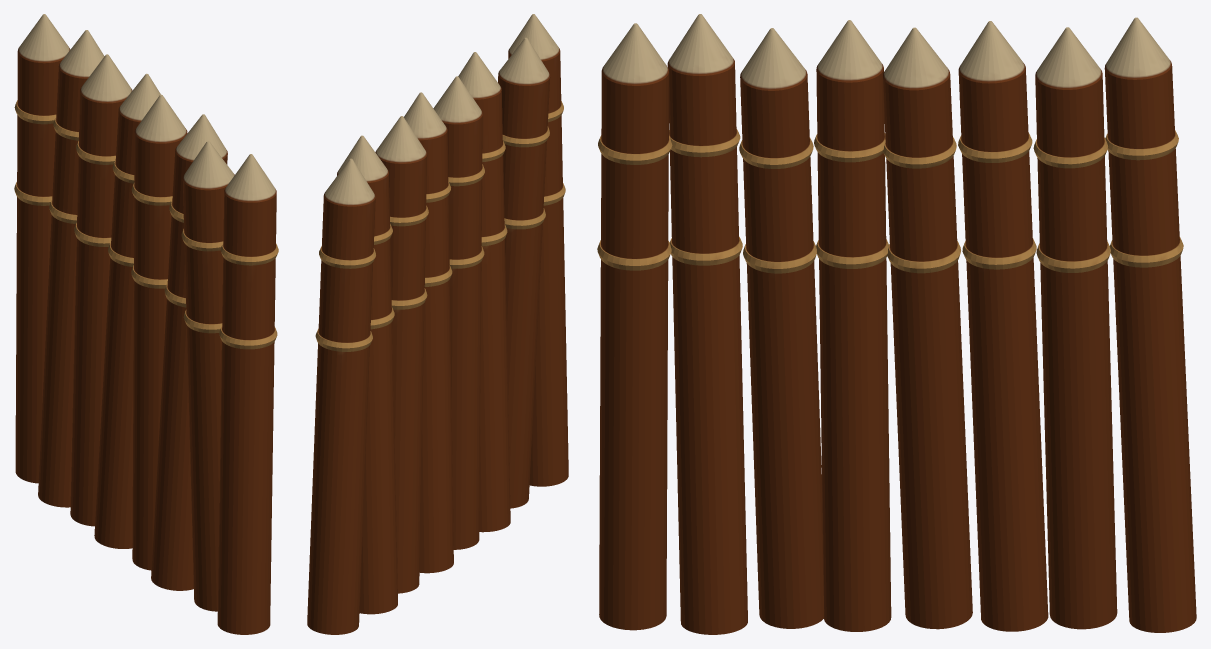
Rendered from LogWall.fbx.
3 renders of one model, left to right at view 1: azimuth 30°, elevation 25°; view 2: azimuth 150°, elevation 25°; view 3: azimuth 270°, elevation 25°, orthographic. The views are drawn at different scales.
Parts seen in each view (by area): view 1: Cylinder.005, Cylinder.004, Cylinder.003, Cylinder, Cylinder.007, Cylinder.001, Cylinder.002, Cylinder.006; view 2: Cylinder, Cylinder.004, Cylinder.007, Cylinder.003, Cylinder.002, Cylinder.001, Cylinder.006, Cylinder.005; view 3: Cylinder.004, Cylinder, Cylinder.007, Cylinder.003, Cylinder.005, Cylinder.001, Cylinder.002, Cylinder.006.
Boxes of the visible parts, x1,y1,x2,y2 form: Cylinder.005: (217,154,278,634); Cylinder.004: (181,141,234,611); Cylinder.003: (70,54,132,526); Cylinder: (14,14,70,483); Cylinder.007: (131,94,187,570); Cylinder.001: (38,30,104,507); Cylinder.002: (94,73,160,548); Cylinder.006: (151,114,227,590); Cylinder: (307,158,375,634); Cylinder.004: (498,37,550,508); Cylinder.007: (433,76,484,549); Cylinder.003: (375,116,428,593); Cylinder.002: (404,92,453,573); Cylinder.001: (337,135,397,614); Cylinder.006: (458,52,510,532); Cylinder.005: (508,14,568,486); Cylinder.004: (667,14,747,634); Cylinder: (1104,17,1196,632); Cylinder.007: (814,20,891,631); Cylinder.003: (958,21,1048,631); Cylinder.005: (597,23,672,630); Cylinder.001: (1033,27,1117,629); Cylinder.002: (883,27,972,629); Cylinder.006: (739,28,823,628).
Bounding box in the file's own units: 292 × 1960 × 1777.
